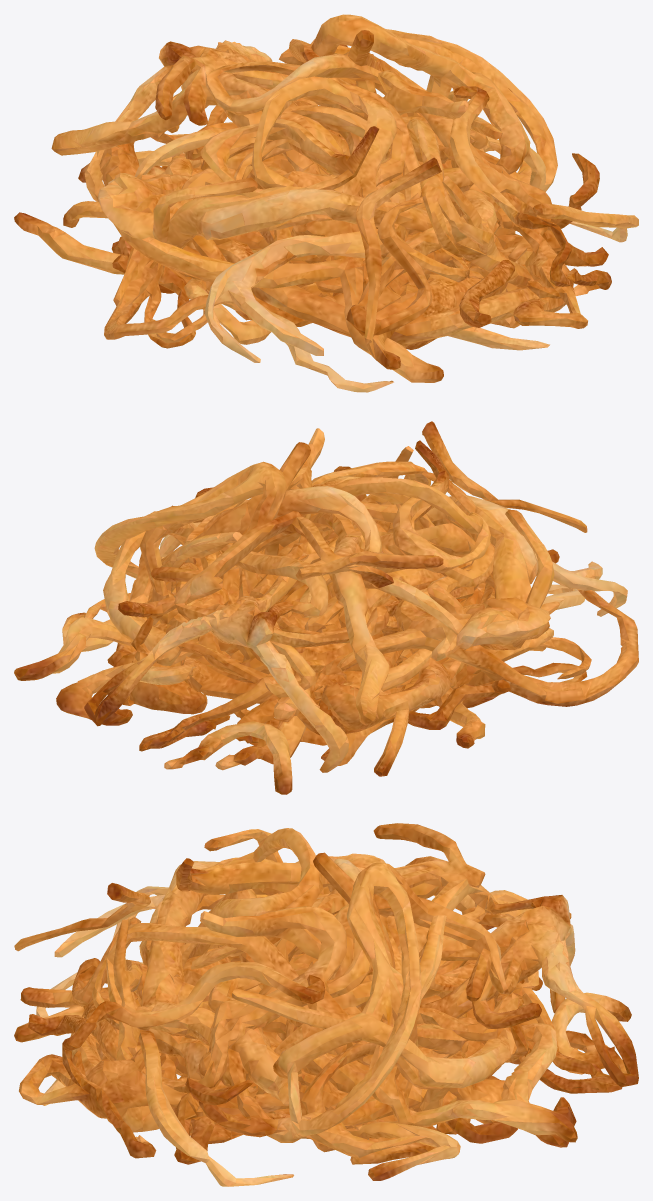
Rendered from onion_straws.glb.
The picture shows the model from 3 angles, top to bottom: view 1: azimuth 30°, elevation 25°; view 2: azimuth 150°, elevation 25°; view 3: azimuth 270°, elevation 25°; orthographic projection. The views are drawn at different scales.
Visible parts, largest first — view 1: Mesh_0; view 2: Mesh_0; view 3: Mesh_0.
Part boxes in pixels (x1,y1,x2,y2): Mesh_0: (14,14,638,392); Mesh_0: (14,421,638,794); Mesh_0: (14,823,638,1186).
Size of the model in its own units: 1.83 by 0.7707 by 1.9.
1 material, 1 textured.
